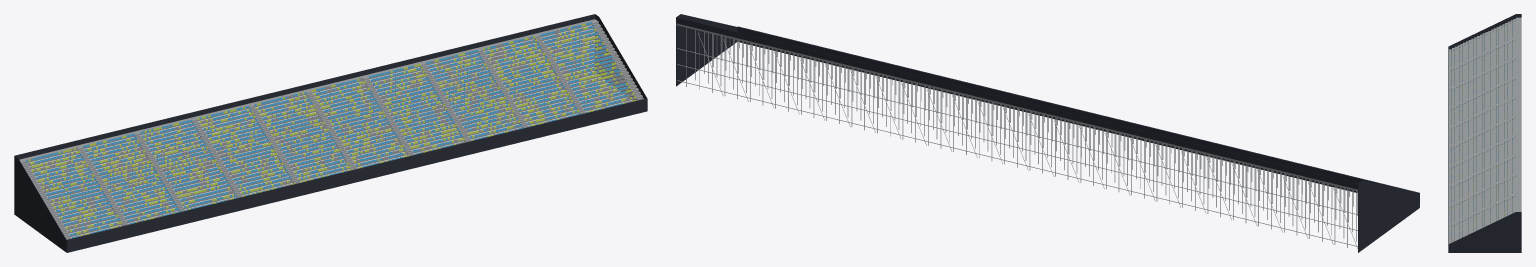
Rendered from sgp_stand_pit_c.glb.
The picture shows the model from 3 angles, left to right: view 1: azimuth 30°, elevation 25°; view 2: azimuth 150°, elevation 25°; view 3: azimuth 270°, elevation 25°; orthographic projection. The views are drawn at different scales.
Visible parts, largest first — view 1: singapore-pit-grandstand; view 2: singapore-pit-grandstand; view 3: singapore-pit-grandstand.
Part boxes in pixels (<box>): singapore-pit-grandstand: <box>14,14,647,252</box>; singapore-pit-grandstand: <box>676,14,1419,252</box>; singapore-pit-grandstand: <box>1448,14,1521,252</box>.
Bounding box in the file's own units: 134 × 12.98 × 21.05.
